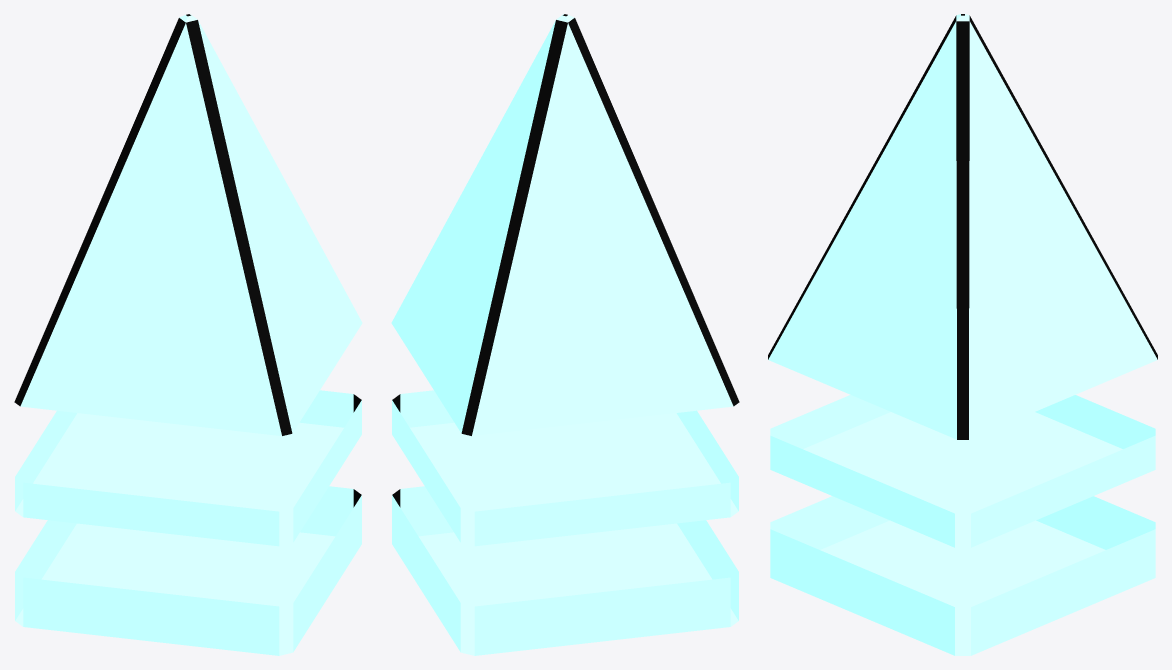
File: ARROW.fbx
The picture shows the model from 3 angles, left to right: view 1: azimuth 30°, elevation 25°; view 2: azimuth 150°, elevation 25°; view 3: azimuth 270°, elevation 25°; orthographic projection.
Parts seen in each view (by area): view 1: ARROW_02, Cone.003, Cone.002; view 2: ARROW_02, Cone.003, Cone.002; view 3: ARROW_02, Cone.003, Cone.002.
Boxes of the visible parts, x1,y1,x2,y2 form: ARROW_02: [14, 14, 362, 435]; Cone.003: [15, 486, 361, 655]; Cone.002: [15, 390, 361, 546]; ARROW_02: [391, 14, 739, 435]; Cone.003: [392, 486, 738, 655]; Cone.002: [392, 390, 738, 546]; ARROW_02: [768, 14, 1157, 439]; Cone.003: [770, 496, 1155, 655]; Cone.002: [770, 395, 1155, 547].
Bounding box in the file's own units: 194 × 308 × 194.
